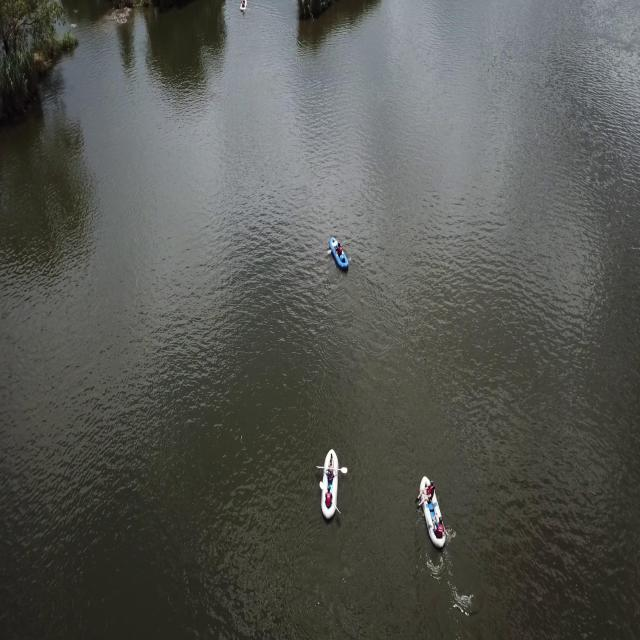kayak: (412, 470, 456, 571), (314, 439, 346, 528), (330, 234, 350, 276), (237, 0, 251, 17)
